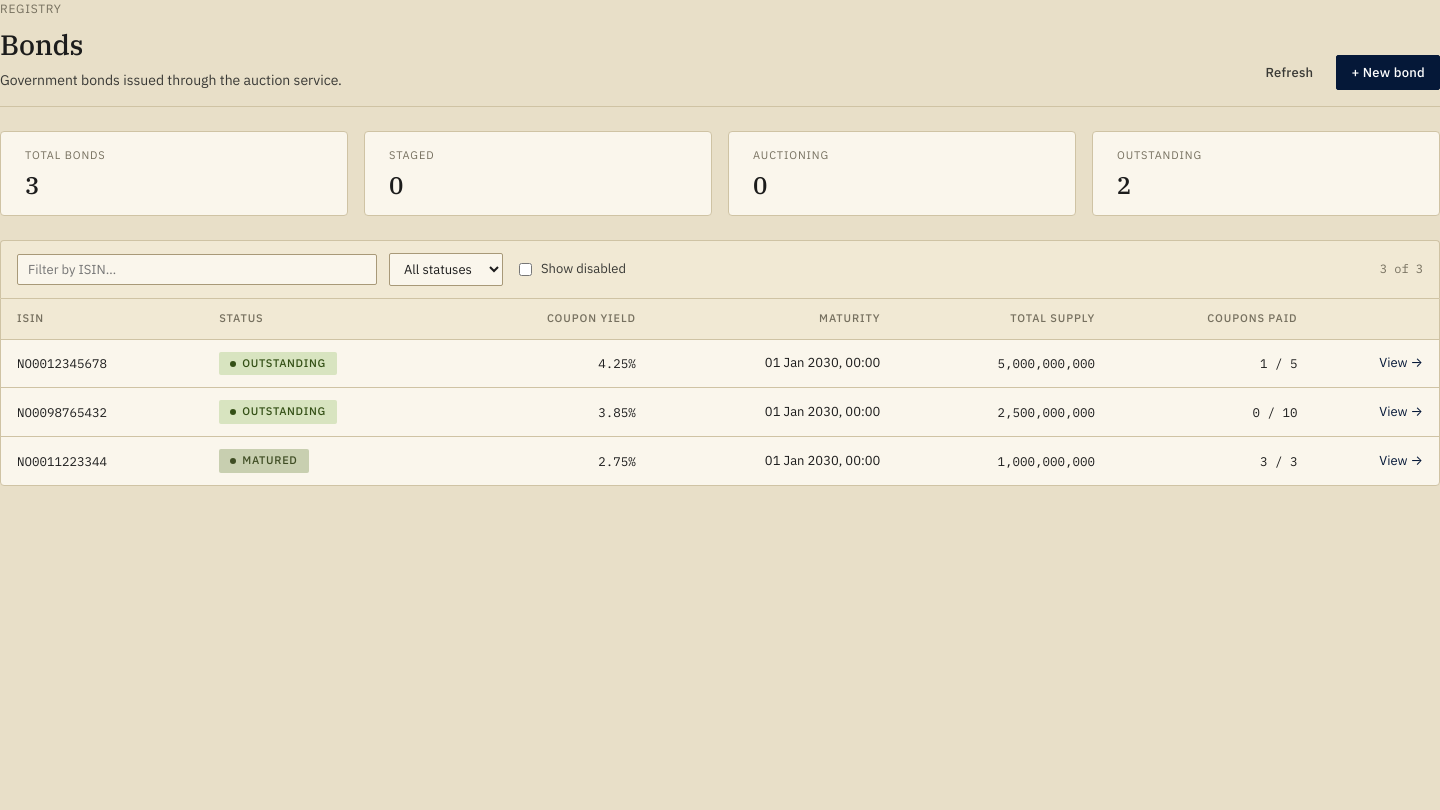
Test: BondsPage › opens the bond-only create modal when the action button is clicked
Click the button "+ New bond" at [1388, 73], box x1=1336 y1=55 x2=1439 y2=90
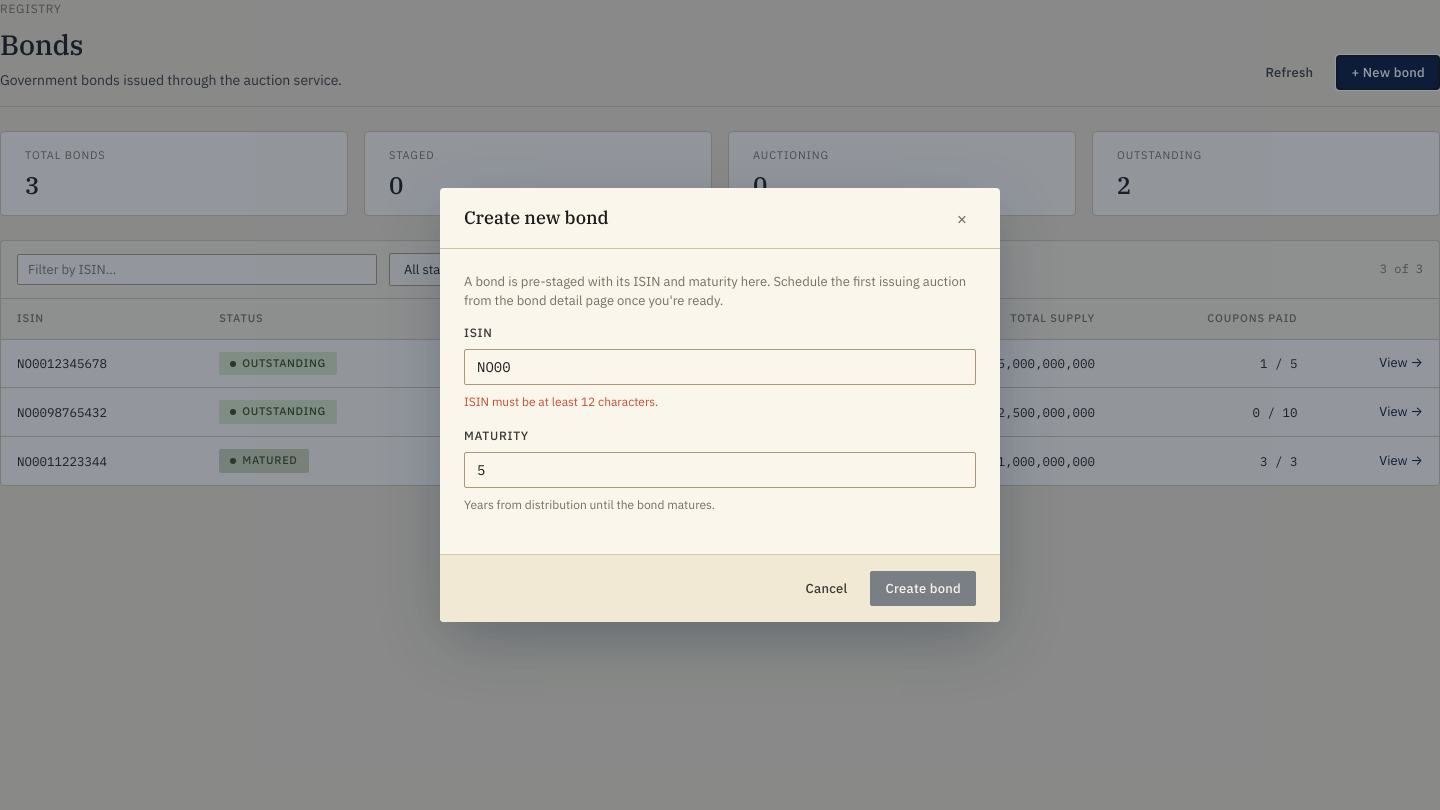
expect the heading "Create new bond" is shown: met, box x1=464 y1=205 x2=609 y2=231
expect the field with placeholder "NO0012345678" is shown: met, box x1=464 y1=350 x2=976 y2=386
